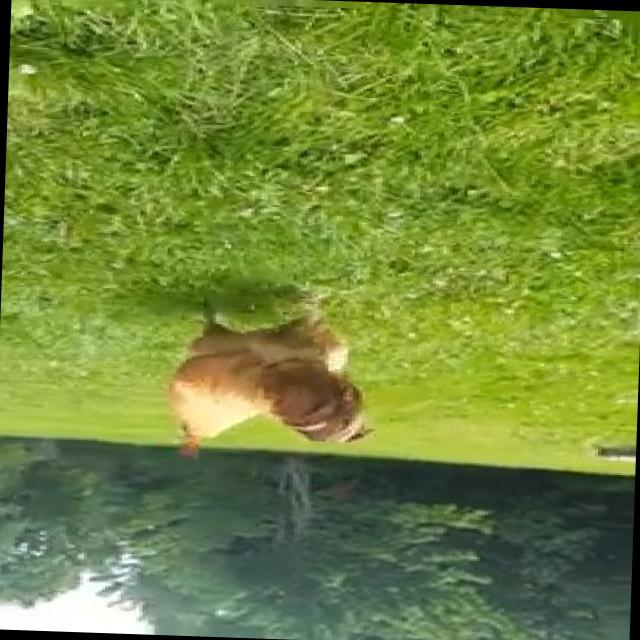running: (130, 287, 388, 484)
